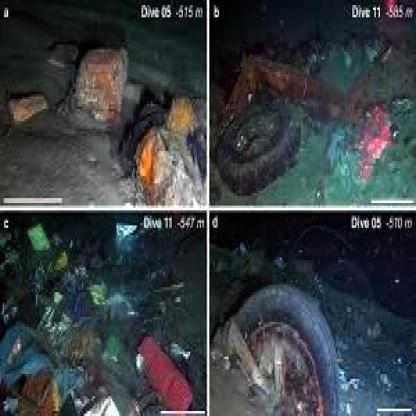pbottle: (127, 319, 197, 411)
plastic: (10, 76, 58, 142), (1, 342, 53, 374), (23, 220, 57, 258)
tire: (237, 267, 365, 416), (215, 76, 311, 194)
